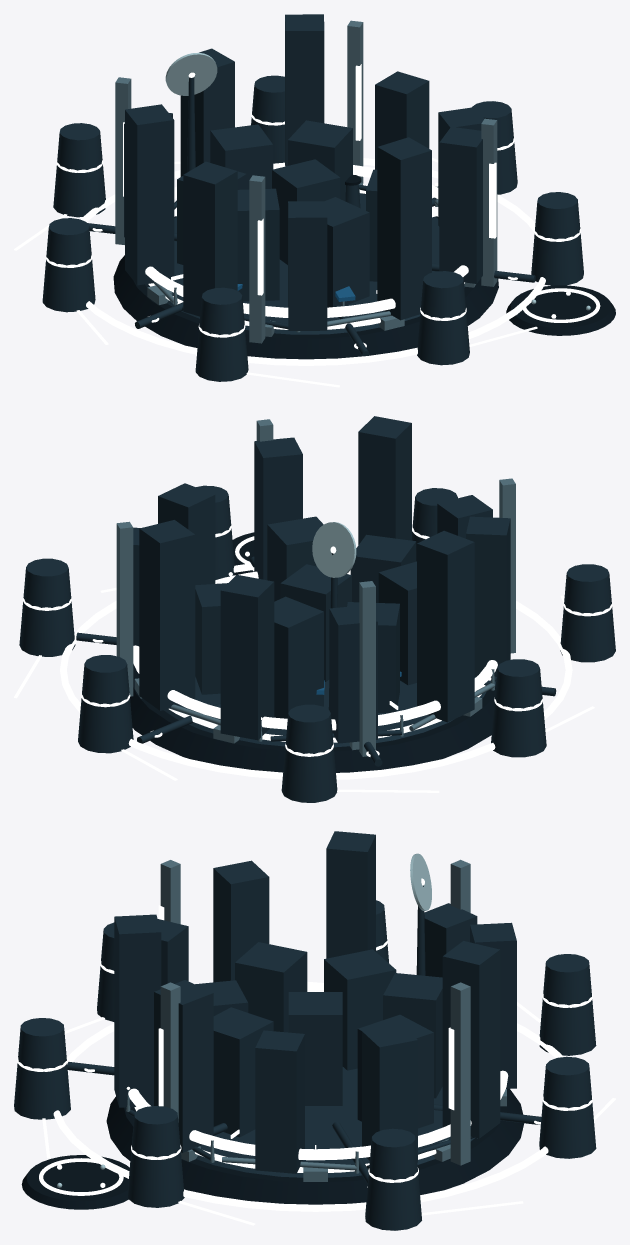
Rendered from metalStorage-stage4.glb.
The picture shows the model from 3 angles, top to bottom: view 1: azimuth 30°, elevation 25°; view 2: azimuth 150°, elevation 25°; view 3: azimuth 270°, elevation 25°; orthographic projection. The views are drawn at different scales.
Parts seen in each view (by area): view 1: metal-vault (×7), mega-vault-2, mega-vault-5, armored-foundation, mega-vault-4, mega-vault-1, mega-vault-3, mega-vault-8, refinery-annex-1, refinery-annex-0, refinery-annex-2, refinery-annex-6 (+20 smaller); view 2: metal-vault (×7), mega-vault-5, mega-vault-8, armored-foundation, mega-vault-7, mega-vault-2, mega-vault-4, mega-vault-1, refinery-annex-3, refinery-annex-2, refinery-annex-4, refinery-annex-1 (+15 smaller); view 3: metal-vault (×7), armored-foundation, mega-vault-8, mega-vault-2, mega-vault-0, mega-vault-1, mega-vault-5, mega-vault-9, mega-vault-4, upper-deck, refinery-annex-5, refinery-annex-6 (+20 smaller).
Boxes of the visible parts, x1=… form: metal-vault (×7): x1=177, y1=120, x2=377, y2=307; mega-vault-2: x1=377, y1=137, x2=431, y2=320; mega-vault-5: x1=125, y1=104, x2=174, y2=285; armored-foundation: x1=113, y1=193, x2=498, y2=359; mega-vault-4: x1=183, y1=161, x2=237, y2=316; mega-vault-1: x1=439, y1=126, x2=482, y2=283; mega-vault-3: x1=288, y1=201, x2=327, y2=330; mega-vault-8: x1=285, y1=14, x2=324, y2=166; refinery-annex-1: x1=195, y1=287, x2=248, y2=381; refinery-annex-0: x1=417, y1=271, x2=469, y2=365; refinery-annex-2: x1=42, y1=218, x2=95, y2=312; refinery-annex-6: x1=531, y1=192, x2=583, y2=285; metal-vault (×7): x1=195, y1=516, x2=416, y2=718; mega-vault-5: x1=417, y1=530, x2=474, y2=722; mega-vault-8: x1=139, y1=520, x2=195, y2=710; armored-foundation: x1=130, y1=664, x2=495, y2=772; mega-vault-7: x1=220, y1=575, x2=274, y2=740; mega-vault-2: x1=358, y1=416, x2=411, y2=544; mega-vault-4: x1=466, y1=516, x2=510, y2=677; mega-vault-1: x1=254, y1=437, x2=302, y2=580; refinery-annex-3: x1=281, y1=704, x2=337, y2=802; refinery-annex-2: x1=491, y1=659, x2=546, y2=757; refinery-annex-4: x1=78, y1=655, x2=133, y2=753; refinery-annex-1: x1=560, y1=564, x2=615, y2=662; metal-vault (×7): x1=195, y1=942, x2=442, y2=1137; armored-foundation: x1=106, y1=1089, x2=523, y2=1204; mega-vault-8: x1=442, y1=941, x2=500, y2=1138; mega-vault-2: x1=114, y1=914, x2=161, y2=1107; mega-vault-0: x1=255, y1=1030, x2=304, y2=1173; mega-vault-1: x1=154, y1=980, x2=213, y2=1152; mega-vault-5: x1=326, y1=831, x2=375, y2=958; mega-vault-9: x1=362, y1=1024, x2=417, y2=1162; mega-vault-4: x1=213, y1=860, x2=269, y2=982; upper-deck: x1=134, y1=1067, x2=474, y2=1177; refinery-annex-5: x1=365, y1=1128, x2=421, y2=1230; refinery-annex-6: x1=127, y1=1106, x2=184, y2=1207.
Size of the model in its own units: 16.81 by 7.05 by 16.76.
